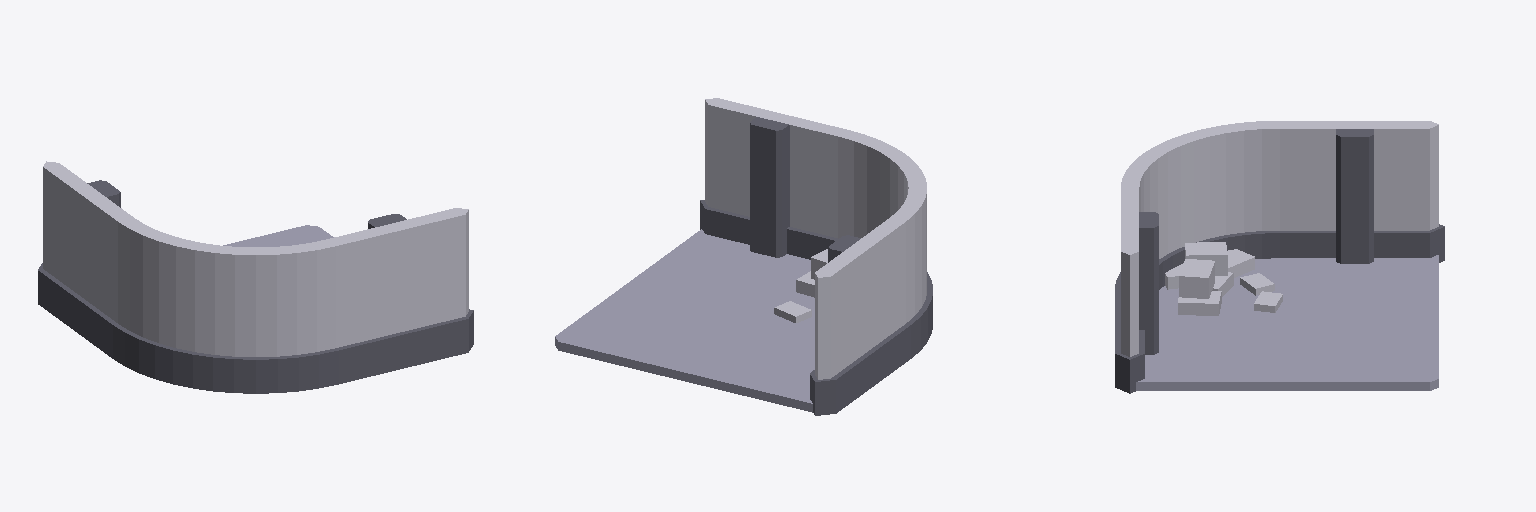
File: corner_04.obj
3 renders of one model, left to right at view 1: azimuth 30°, elevation 25°; view 2: azimuth 150°, elevation 25°; view 3: azimuth 270°, elevation 25°, orthographic.
Visible parts, largest first — view 1: corner_03_12, wall_02_2, wall_02_3, floor_03_13; view 2: floor_03_13, wall_02_2, wall_02_3, corner_03_12, debris_bricks_14; view 3: floor_03_13, wall_02_3, corner_03_12, wall_02_2, debris_bricks_14.
Boxes of the visible parts, <box> form: corner_03_12: <box>113,217,339,393</box>; wall_02_2: <box>324,208,473,383</box>; wall_02_3: <box>38,161,133,358</box>; floor_03_13: <box>223,225,333,246</box>; floor_03_13: <box>555,229,814,412</box>; wall_02_2: <box>700,98,850,259</box>; wall_02_3: <box>810,216,910,415</box>; corner_03_12: <box>835,130,932,358</box>; debris_bricks_14: <box>774,249,827,322</box>; floor_03_13: <box>1136,255,1438,390</box>; wall_02_3: <box>1274,121,1444,263</box>; corner_03_12: <box>1115,121,1286,291</box>; wall_02_2: <box>1115,184,1158,393</box>; debris_bricks_14: <box>1165,242,1282,315</box>.
Bounding box in the file's own units: 2.21 × 1 × 2.21.